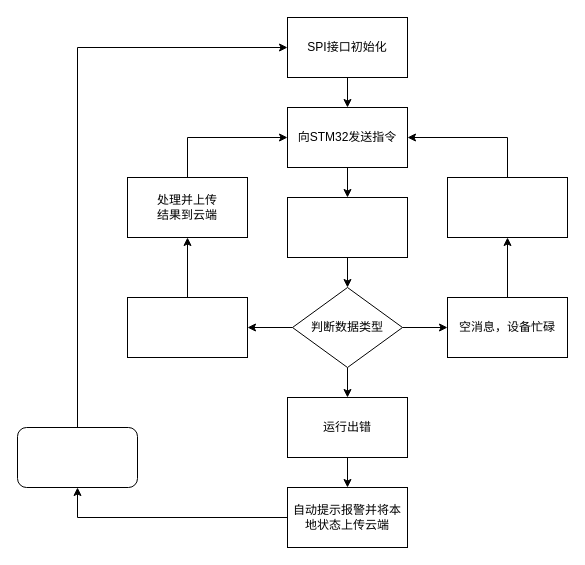
Some shapes in this 585 by 565 pixel diagram are drawn without their labels. The box of each missing label's shape, as (x1, y1, x2, y2) in pixels:
人脸识别结果: (126, 296, 248, 358)
执行其他任务并等待: (446, 176, 568, 238)
报警处理完毕: (16, 426, 138, 488)
接收STM32上传数据: (286, 196, 408, 258)
